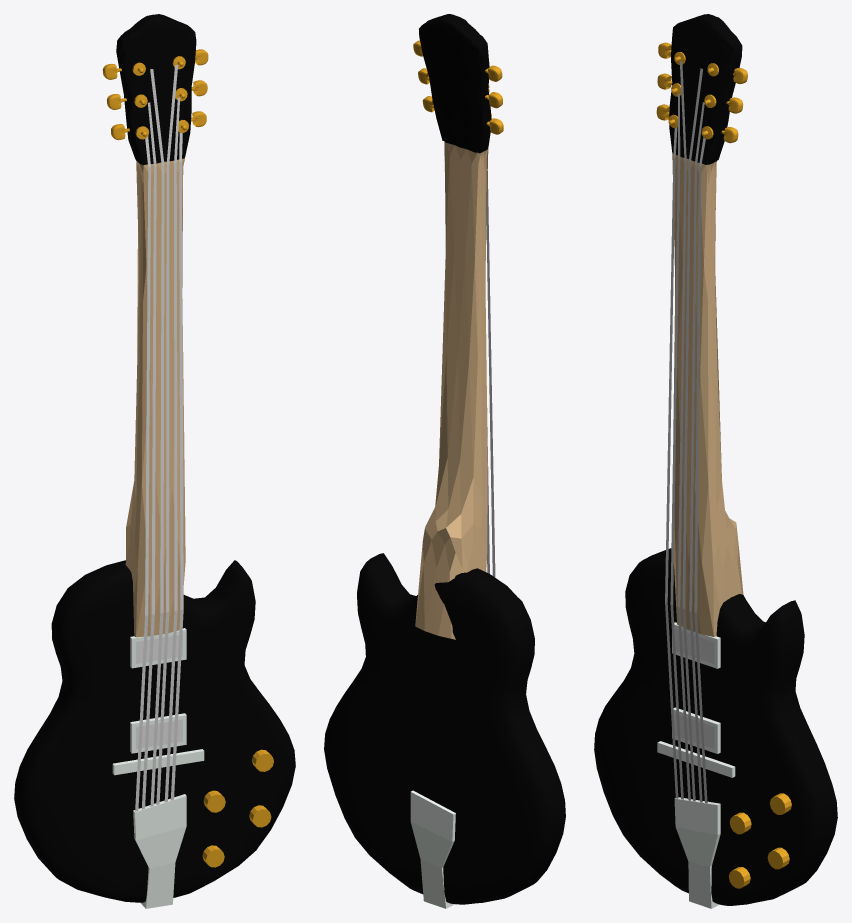
The model's file is Guitar.fbx.
3 renders of one model, left to right at view 1: azimuth 30°, elevation 25°; view 2: azimuth 150°, elevation 25°; view 3: azimuth 330°, elevation 25°, orthographic.
Visible parts, largest first — view 1: Guitar; view 2: Guitar; view 3: Guitar.
Boxes of the visible parts, x1,y1,x2,y2 form: Guitar: (14, 14, 295, 908); Guitar: (324, 14, 565, 908); Guitar: (594, 14, 837, 908).
Bounding box in the file's own units: 3782 × 12648 × 1164.
